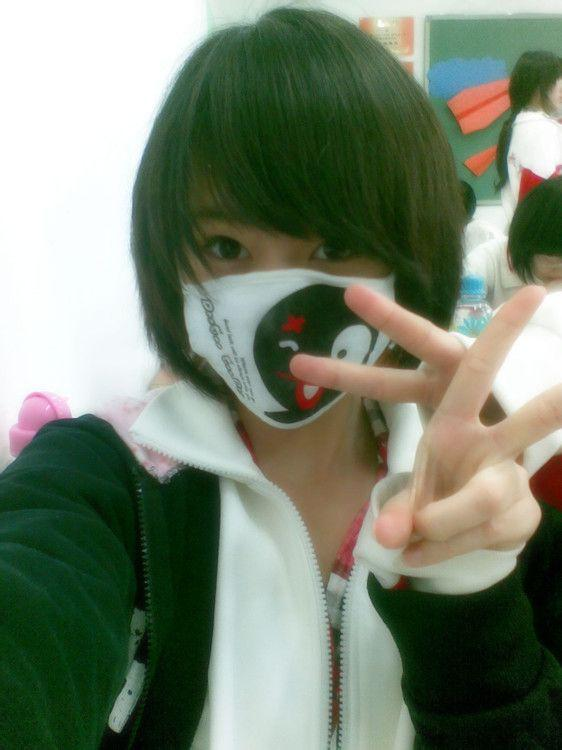OK: (180, 190, 401, 411)
